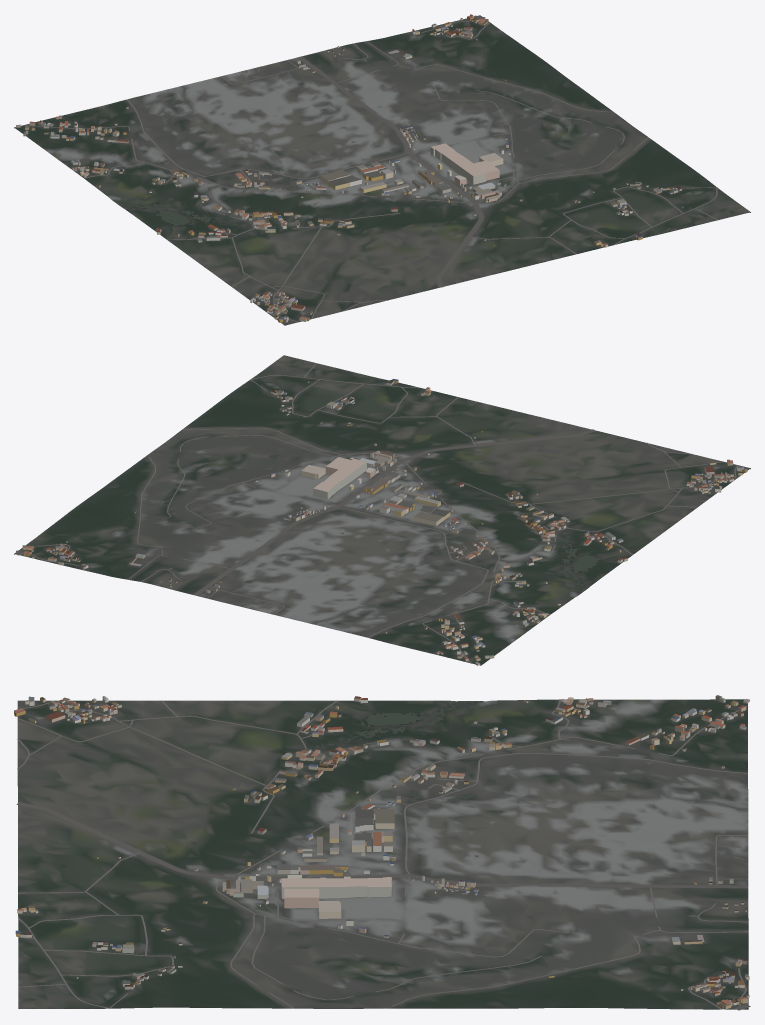
3 views of the same model, one above another, from view 1: azimuth 30°, elevation 25°; view 2: azimuth 150°, elevation 25°; view 3: azimuth 270°, elevation 25° (orthographic). The views are drawn at different scales.
Visible parts, largest first — view 1: ground, buildings, roads, water; view 2: ground, buildings, roads, water; view 3: ground, buildings, roads, water.
Part boxes in pixels (x1=…): ground: x1=14, y1=15, x2=750, y2=325; buildings: x1=16, y1=14, x2=683, y2=322; roads: x1=24, y1=15, x2=717, y2=322; water: x1=113, y1=83, x2=596, y2=228; ground: x1=14, y1=355, x2=750, y2=665; buildings: x1=22, y1=378, x2=747, y2=665; roads: x1=16, y1=363, x2=737, y2=663; water: x1=193, y1=453, x2=600, y2=594; ground: x1=17, y1=699, x2=748, y2=1009; buildings: x1=14, y1=695, x2=749, y2=1009; roads: x1=16, y1=699, x2=750, y2=1010; water: x1=291, y1=701, x2=675, y2=988.
Bounding box in the file's own units: 1409 × 29.74 × 1415.
